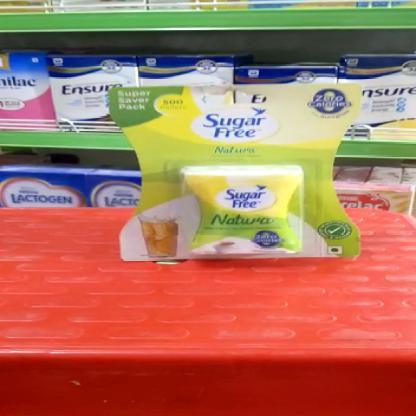SUGAR FREE NATURA 500 PELLET: (110, 83, 358, 260)
